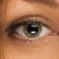eye: (24, 23, 41, 36)
